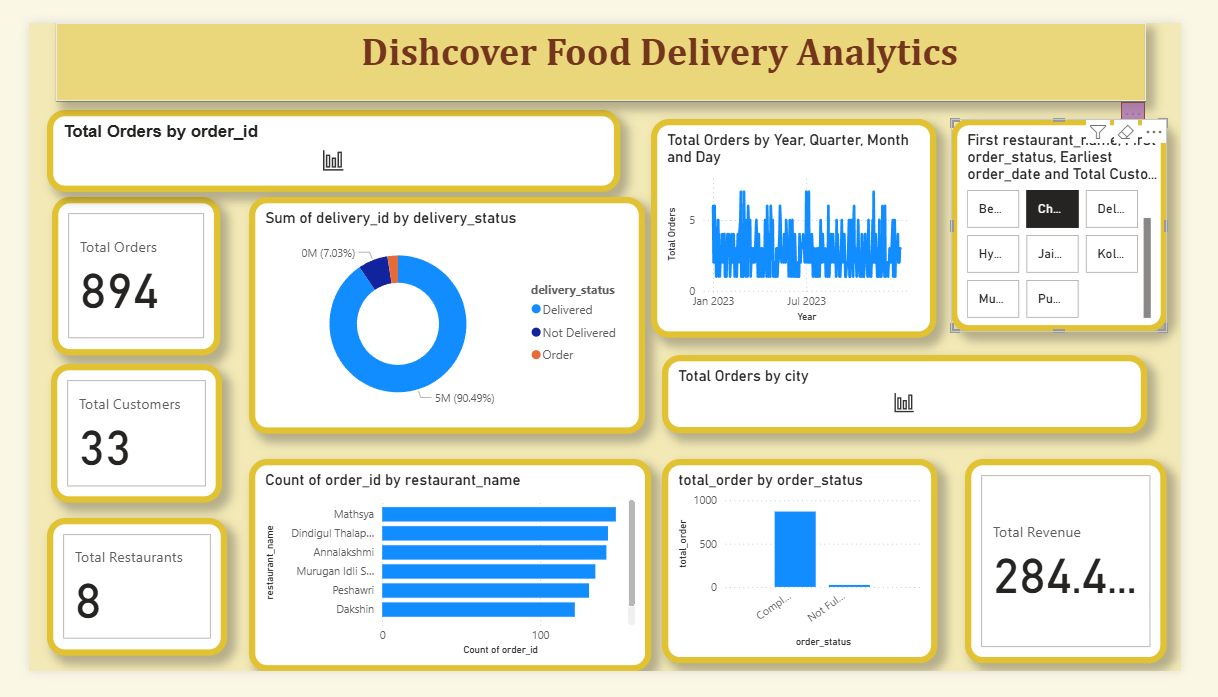

What the dashboard file says about the page in this screenshot:
{"tool":"powerbi","page":{"name":"Page 1","canvas":[1280,720],"ordinal":0},"visuals":[{"type":"cardVisual","fields":{"Data":["public orders.Total Orders"]},"box":[25.7,192.9,187.1,175.7],"z":0},{"type":"cardVisual","fields":{"Data":["public customers.Total Customers"]},"box":[24.3,378.6,190,154.3],"z":1000},{"type":"cardVisual","fields":{"Data":["public restaurants.Total Restaurants"]},"box":[20,550,200,152.9],"z":2000},{"type":"clusteredBarChart","fields":{"Y":["public orders.Total Orders"],"Category":["public orders.order_id"]},"box":[20,97.1,637.1,91.4],"z":3000},{"type":"donutChart","fields":{"Category":["public deliveries.delivery_status"],"Y":["Sum(public deliveries.delivery_id)"]},"box":[244.3,192.9,440,262.9],"z":4000},{"type":"barChart","fields":{"Category":["public restaurants.restaurant_name"],"Y":["CountNonNull(public orders.order_id)"]},"box":[244.3,484.3,447.1,235.7],"z":5000},{"type":"lineChart","fields":{"Category":["public orders.order_date.Variation.Date Hierarchy.Year","public orders.order_date.Variation.Date Hierarchy.Quarter","public orders.order_date.Variation.Date Hierarchy.Month","public orders.order_date.Variation.Date Hierarchy.Day"],"Y":["public orders.Total Orders"]},"box":[691.4,107.1,317.1,242.9],"z":6000},{"type":"barChart","fields":{"Category":["public restaurants.city"],"Y":["public orders.Total Orders"]},"box":[702.9,368.6,538.6,87.1],"z":7000},{"type":"columnChart","fields":{"Category":["public orders.order_status"],"Y":["public orders.total_order"]},"box":[702.9,484.3,305.7,227.1],"z":8000},{"type":"advancedSlicerVisual","fields":{"Values":["public restaurants.city"]},"box":[1024.3,107.1,240,235.7],"z":9000},{"type":"textbox","box":[30,0,1211.4,87.1],"z":9001},{"type":"cardVisual","fields":{"Data":["public orders.Total Revenue"]},"box":[1040,484.3,224.3,227.1],"z":9002}]}

Visuals, with their boxes in screenshot pixels (x1, y1, x2, y2), scaled from the page's 1280x720 canvas onto the 1218x697 screenshot:
cardVisual - public orders.Total Orders: 24, 187, 202, 357
cardVisual - public customers.Total Customers: 23, 367, 204, 516
cardVisual - public restaurants.Total Restaurants: 19, 532, 209, 680
clusteredBarChart - public orders.Total Orders x public orders.order_id: 19, 94, 625, 182
donutChart - public deliveries.delivery_status x Sum(public deliveries.delivery_id): 232, 187, 651, 441
barChart - public restaurants.restaurant_name x CountNonNull(public orders.order_id): 232, 469, 658, 696
lineChart - public orders.order_date.Variation.Date Hierarchy.Year x public orders.order_date.Variation.Date Hierarchy.Quarter: 658, 104, 960, 339
barChart - public restaurants.city x public orders.Total Orders: 669, 357, 1181, 441
columnChart - public orders.order_status x public orders.total_order: 669, 469, 960, 689
advancedSlicerVisual - public restaurants.city: 975, 104, 1203, 332
textbox: 29, 0, 1181, 84
cardVisual - public orders.Total Revenue: 990, 469, 1203, 689
